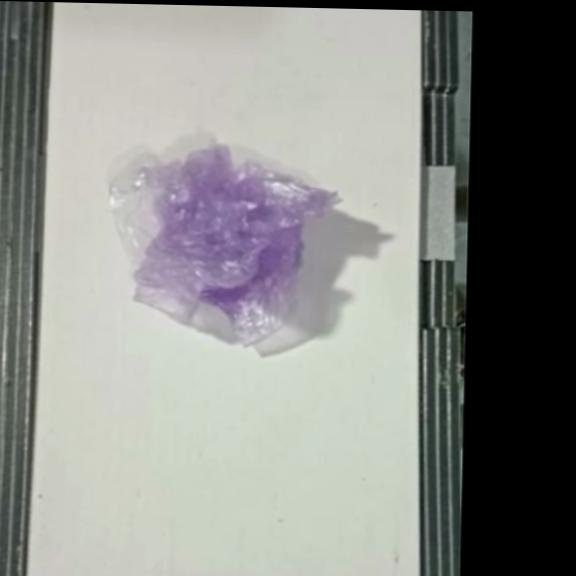Plastik: (107, 135, 334, 349)
